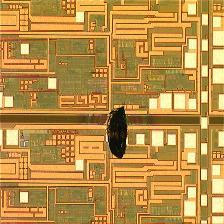PARTICLE: (104, 102, 132, 163)
